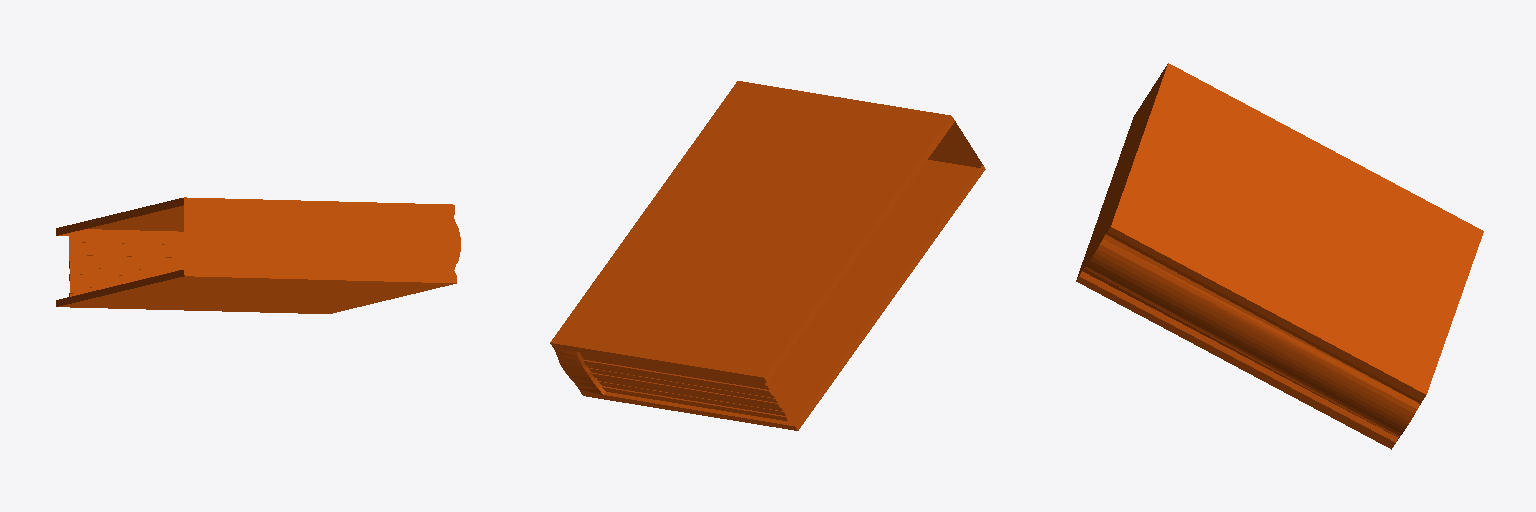
File: book3.obj
The picture shows the model from 3 angles: view 1: azimuth 30°, elevation 25°; view 2: azimuth 150°, elevation 25°; view 3: azimuth 270°, elevation 25°; orthographic projection.
Parts seen in each view (by area): view 1: Cube.005; view 2: Cube.005; view 3: Cube.005.
Part boxes in pixels (x1,y1,x2,y2): Cube.005: (56,197,460,313); Cube.005: (550,81,985,430); Cube.005: (1076,63,1483,449).
Bounding box in the file's own units: 0.4668 × 0.4029 × 0.5703.